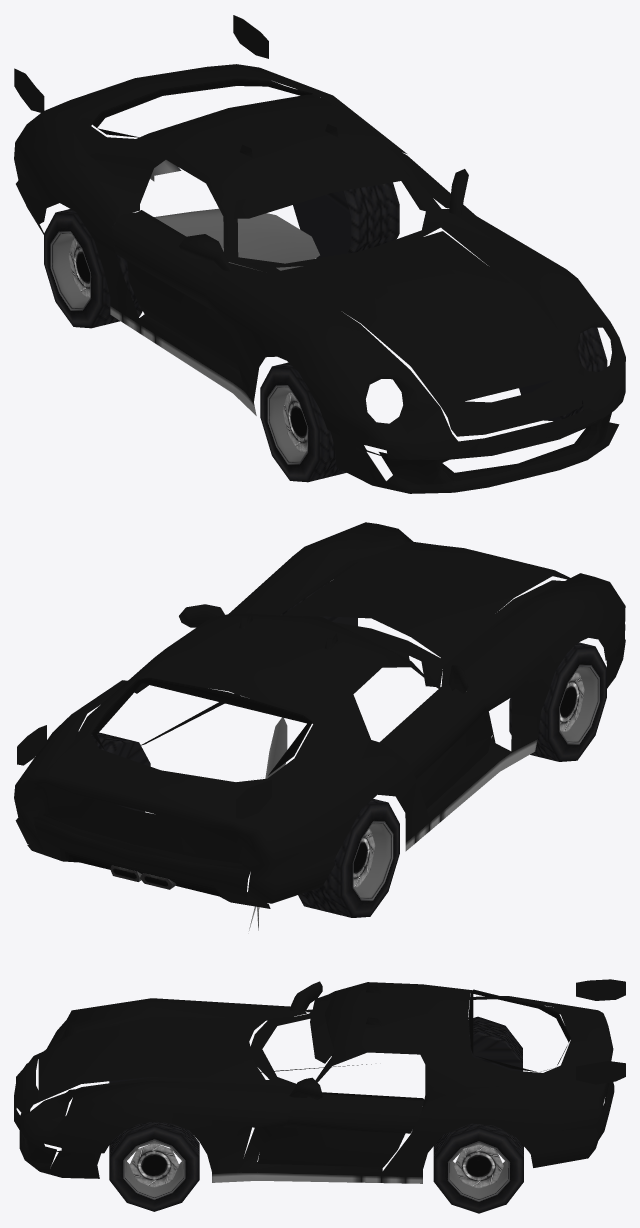
The model's file is car-MSCL_Car14.glb.
3 renders of one model, top to bottom at view 1: azimuth 30°, elevation 25°; view 2: azimuth 150°, elevation 25°; view 3: azimuth 270°, elevation 25°, orthographic. The views are drawn at different scales.
Parts seen in each view (by area): view 1: MSCL_Car14; view 2: MSCL_Car14; view 3: MSCL_Car14.
Boxes of the visible parts, left/top/right/bottom form: MSCL_Car14: left=14, top=15, right=625, bottom=493; MSCL_Car14: left=14, top=522, right=625, bottom=930; MSCL_Car14: left=14, top=979, right=625, bottom=1213.
Size of the model in its own units: 1.95 by 1.3 by 4.47.
Materials: 16 (16 with a texture image).
